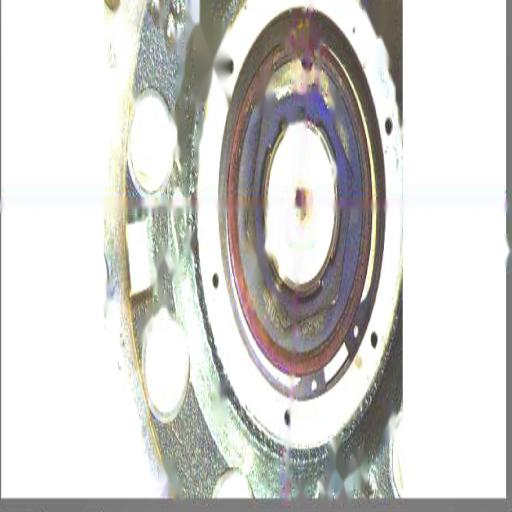center: (293, 186, 307, 214)
notch: (298, 52, 315, 79)
